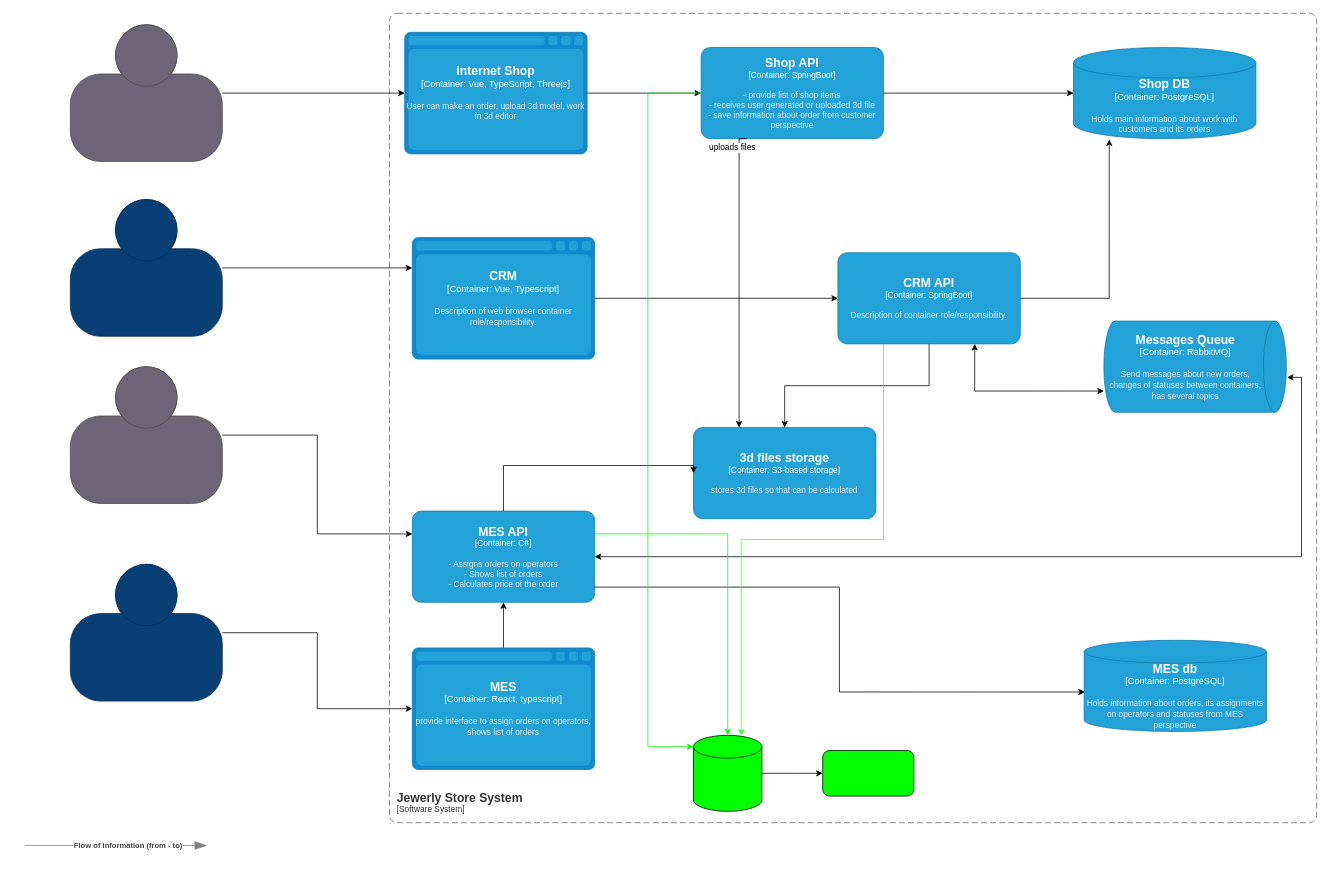
This 1330x871 diagram has some shape labels left out. Each missing label, with the box of its shape:
API user [Person] Description of external person.: (70, 366, 222, 504)
Customer [Person] Description of external person.: (70, 24, 222, 162)
Jager: (693, 735, 762, 811)
Jager UI: (822, 750, 914, 796)
Operator [Person] Takes order in work, manufactures jewerly: (70, 564, 222, 701)
Seller [Person] Operates with order, confirms manufacturing for the user: (70, 199, 222, 336)
